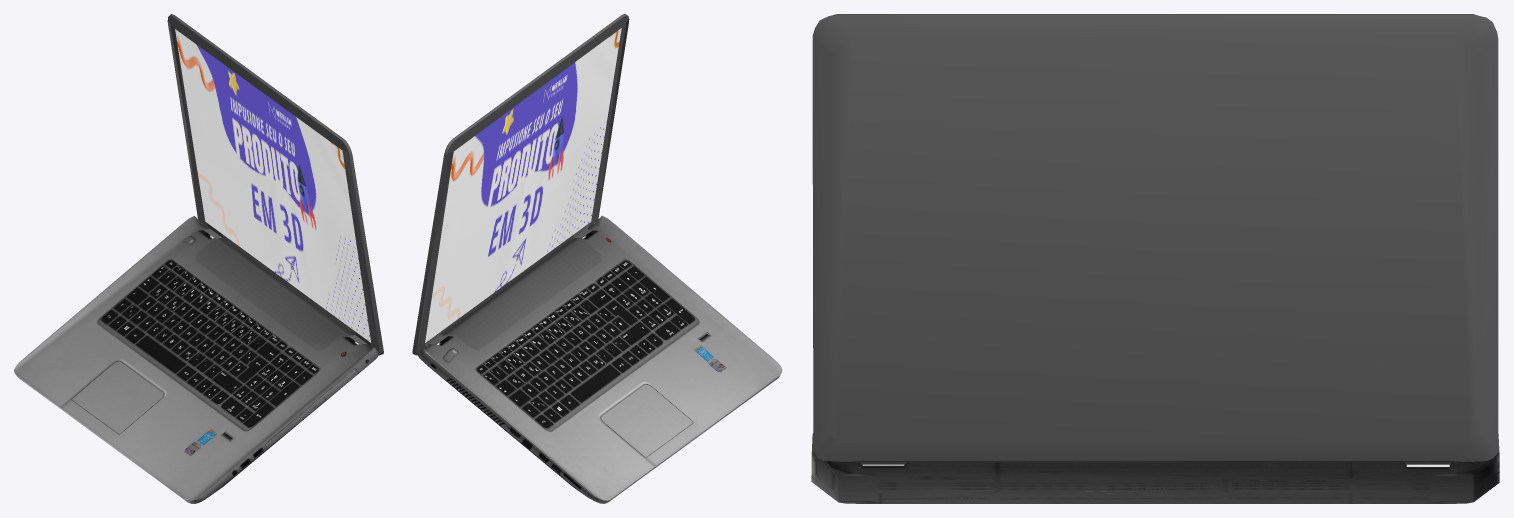
The model's file is Laptop.glb.
3 renders of one model, left to right at view 1: azimuth 30°, elevation 25°; view 2: azimuth 150°, elevation 25°; view 3: azimuth 270°, elevation 25°, orthographic. The views are drawn at different scales.
Parts seen in each view (by area): view 1: Lowpoly_Notebook; view 2: Lowpoly_Notebook; view 3: Lowpoly_Notebook.
Part boxes in pixels (x1,y1,x2,y2): Lowpoly_Notebook: (14,14,383,503); Lowpoly_Notebook: (412,14,782,503); Lowpoly_Notebook: (811,14,1499,503).
Bounding box in the file's own units: 2 × 3.21 × 3.27.
3 materials, 2 textured.
